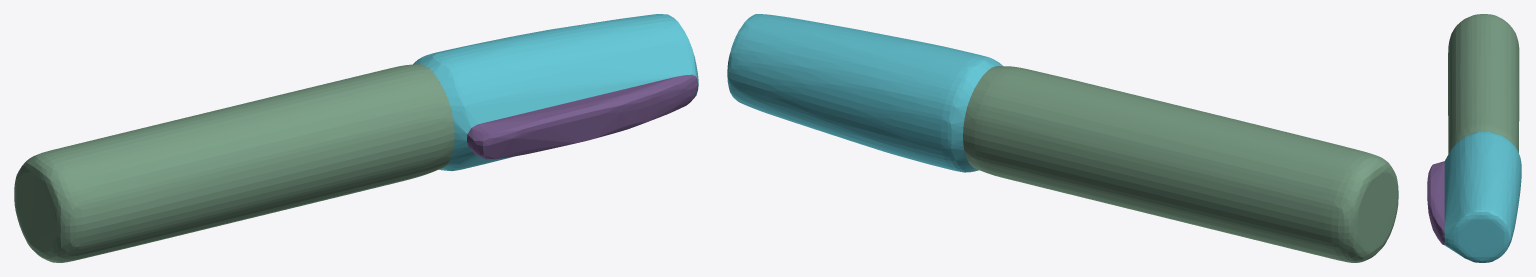
Rendered from sharpie_marker.obj.
The picture shows the model from 3 angles, left to right: view 1: azimuth 30°, elevation 25°; view 2: azimuth 150°, elevation 25°; view 3: azimuth 270°, elevation 25°; orthographic projection. The views are drawn at different scales.
Parts seen in each view (by area): view 1: geometry_0, geometry_2, geometry_1; view 2: geometry_0, geometry_2; view 3: geometry_2, geometry_0, geometry_1.
Part boxes in pixels (x1=…): geometry_0: x1=14, y1=64, x2=454, y2=262; geometry_2: x1=413, y1=14, x2=698, y2=171; geometry_1: x1=467, y1=74, x2=698, y2=159; geometry_0: x1=963, y1=66, x2=1398, y2=262; geometry_2: x1=727, y1=14, x2=1003, y2=172; geometry_2: x1=1444, y1=131, x2=1521, y2=262; geometry_0: x1=1448, y1=14, x2=1519, y2=153; geometry_1: x1=1427, y1=161, x2=1444, y2=245.
Bounding box in the file's own units: 0.1445 × 0.0235 × 0.0294.
